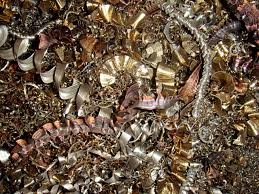metal: (2, 25, 97, 116), (7, 105, 117, 163), (94, 46, 151, 91), (158, 134, 195, 175), (205, 68, 242, 109), (231, 115, 259, 149), (152, 59, 182, 88), (94, 1, 118, 24), (126, 9, 147, 31), (80, 1, 101, 12)
